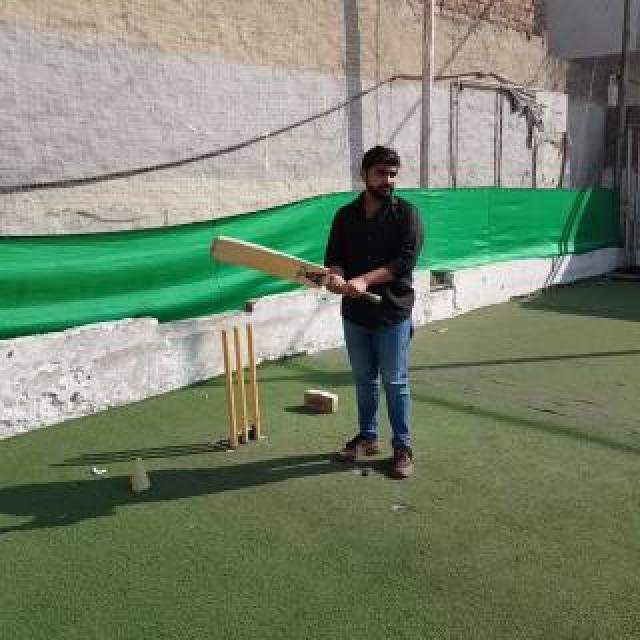bat: (210, 236, 382, 304)
